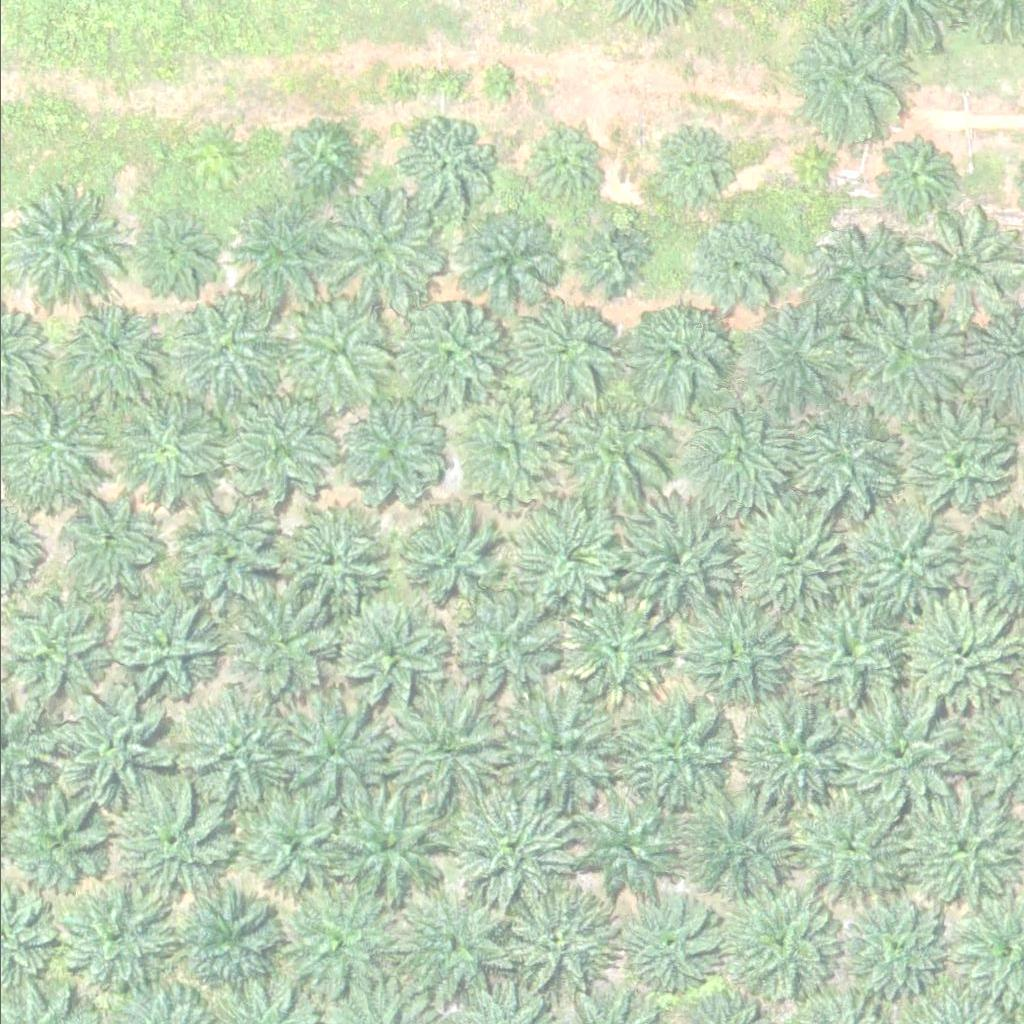Kelapa_Sawit: (889, 402, 1015, 527), (889, 608, 1015, 733), (831, 887, 957, 1012), (494, 875, 620, 1000), (383, 883, 509, 1008), (448, 779, 574, 904), (678, 783, 804, 908), (785, 779, 911, 904), (893, 786, 1019, 911), (835, 691, 961, 816), (732, 687, 858, 812), (613, 687, 739, 812), (493, 685, 619, 810), (378, 675, 504, 800), (843, 296, 969, 421), (319, 185, 445, 310), (270, 691, 396, 816), (176, 689, 302, 814), (41, 684, 167, 809), (331, 781, 457, 906), (232, 785, 358, 910), (111, 781, 237, 906), (276, 873, 402, 998), (787, 21, 912, 146), (789, 599, 903, 712), (681, 599, 795, 712), (56, 885, 170, 998), (909, 208, 1022, 321), (556, 394, 669, 507), (450, 388, 563, 501), (389, 300, 502, 413), (505, 290, 618, 403), (621, 300, 734, 413), (739, 305, 852, 418), (339, 398, 452, 511), (269, 506, 382, 619), (224, 393, 337, 506), (111, 393, 224, 506), (173, 491, 286, 604), (169, 888, 282, 1001), (729, 502, 843, 614), (840, 506, 954, 618), (221, 585, 335, 697), (717, 887, 830, 999), (560, 593, 673, 705), (444, 592, 557, 704), (391, 499, 504, 611), (515, 499, 628, 611), (617, 506, 730, 618), (783, 398, 896, 510), (682, 397, 795, 509), (800, 225, 913, 337), (335, 600, 448, 712), (273, 298, 386, 410), (222, 199, 335, 311), (166, 294, 279, 406), (109, 587, 222, 699), (620, 895, 721, 995), (683, 218, 784, 318), (452, 210, 553, 310), (57, 302, 158, 402), (57, 490, 158, 590), (580, 797, 680, 897), (390, 114, 490, 214), (644, 123, 732, 211), (516, 121, 604, 209), (868, 133, 956, 221), (133, 211, 221, 298), (280, 120, 356, 195), (574, 222, 649, 297), (795, 156, 833, 194), (475, 64, 513, 101)
